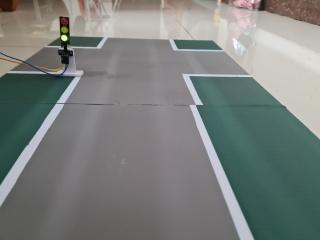green: (52, 10, 75, 49)
